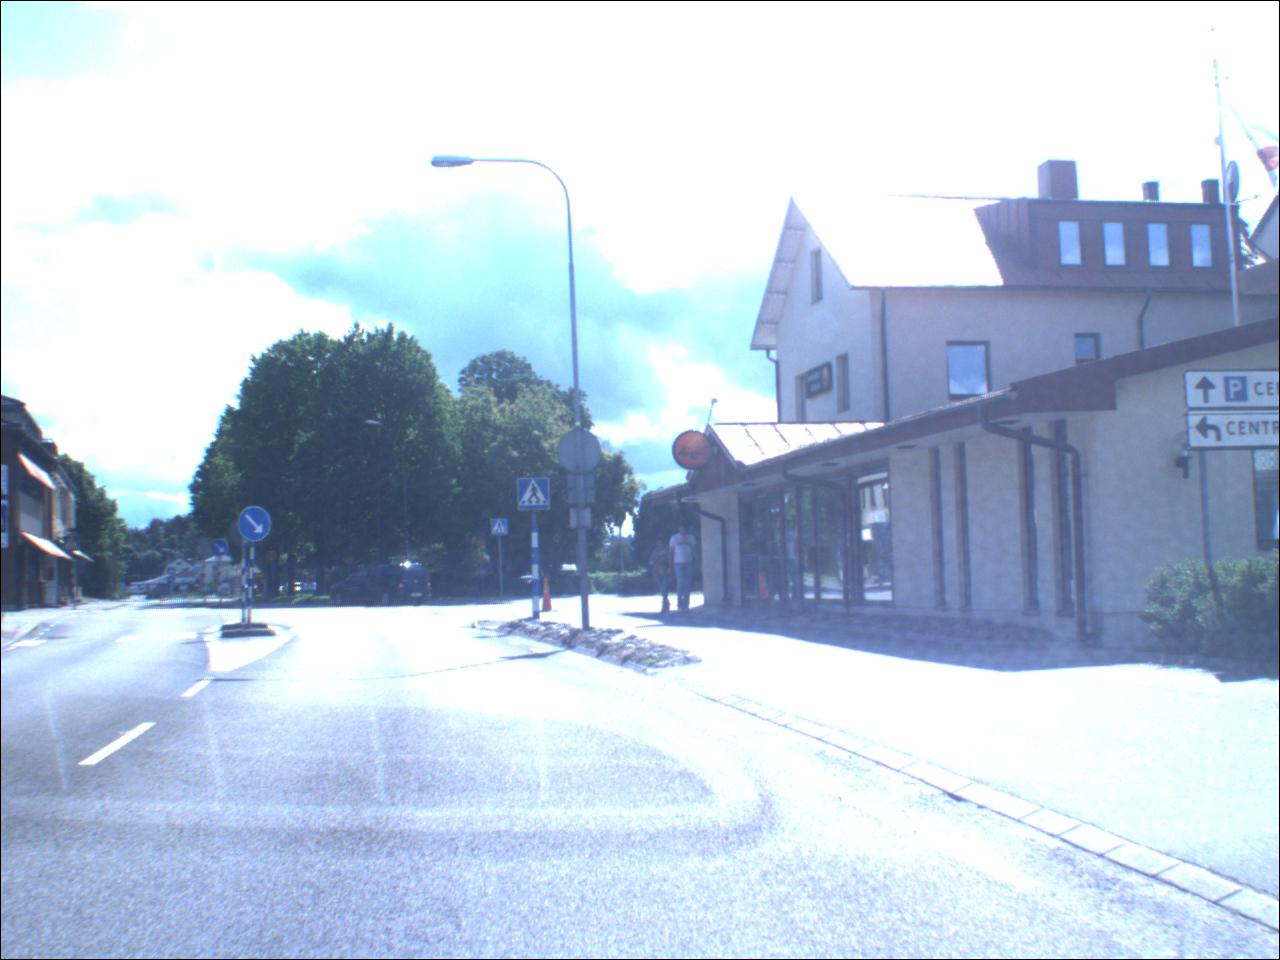PASS_RIGHT_SIDE: (239, 508, 275, 544), (213, 541, 233, 559)
PEDESTRIAN_CROSSING: (519, 480, 553, 513), (492, 521, 511, 538)
